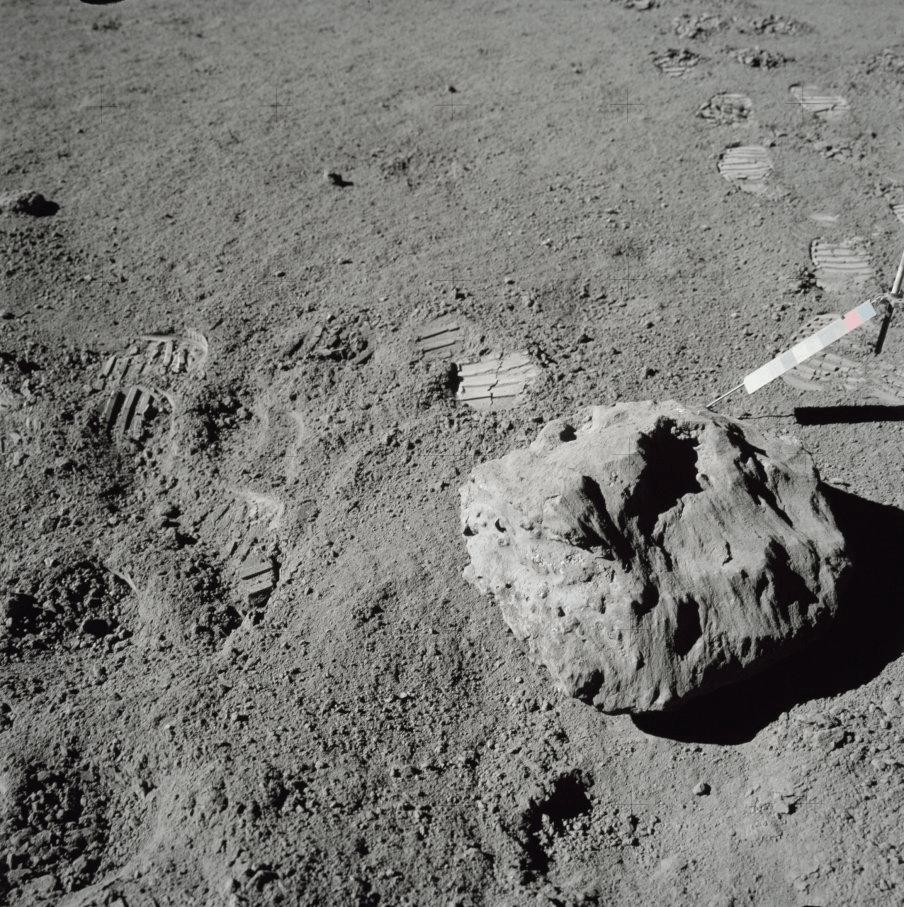rock: (461, 402, 850, 714)
